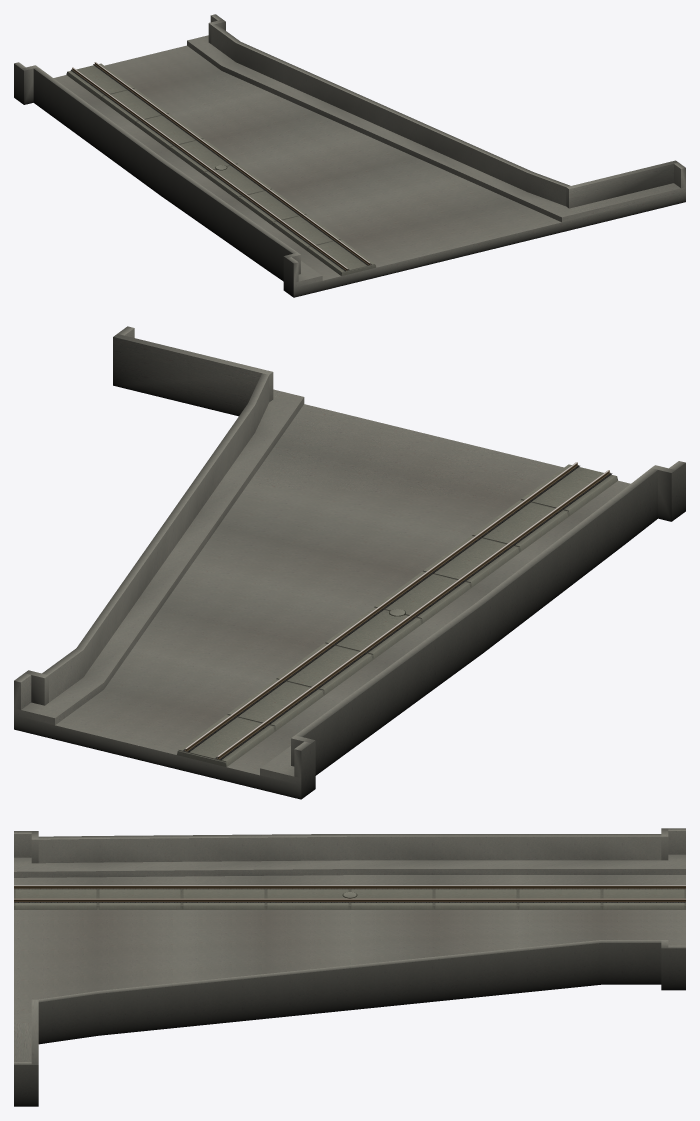
Rendered from 2_TO_4RAIL_KONKURI2.glb.
The picture shows the model from 3 angles, top to bottom: view 1: azimuth 30°, elevation 25°; view 2: azimuth 150°, elevation 25°; view 3: azimuth 270°, elevation 25°; orthographic projection. The views are drawn at different scales.
Parts seen in each view (by area): view 1: obj6; view 2: obj6; view 3: obj6.
Part boxes in pixels (bbox=[...]): obj6: bbox=[14, 14, 685, 297]; obj6: bbox=[14, 326, 685, 799]; obj6: bbox=[14, 828, 685, 1106].
Size of the model in its own units: 83.35 by 6.88 by 100.
Materials: 4 (3 with a texture image).
